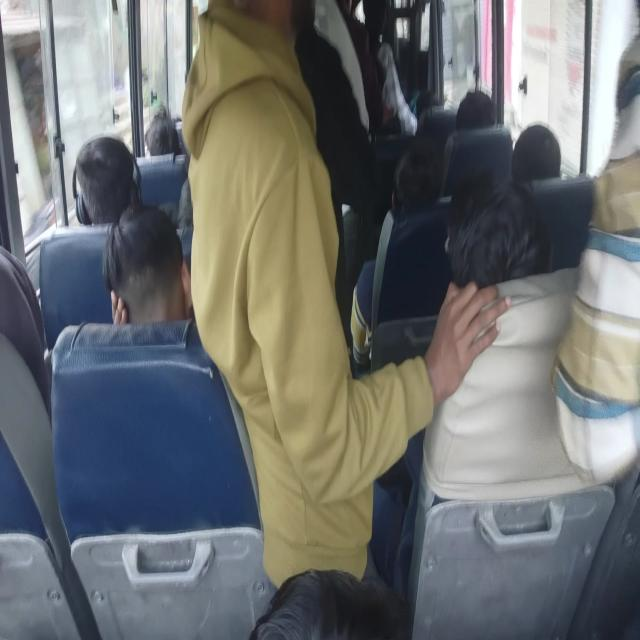person: (187, 2, 340, 352), (574, 27, 639, 640), (252, 556, 378, 640), (108, 204, 192, 318), (451, 182, 539, 290), (0, 261, 52, 415), (81, 123, 138, 232), (456, 85, 531, 161), (359, 0, 406, 106), (393, 147, 445, 225), (144, 110, 181, 176), (510, 120, 558, 170), (297, 0, 353, 39)
